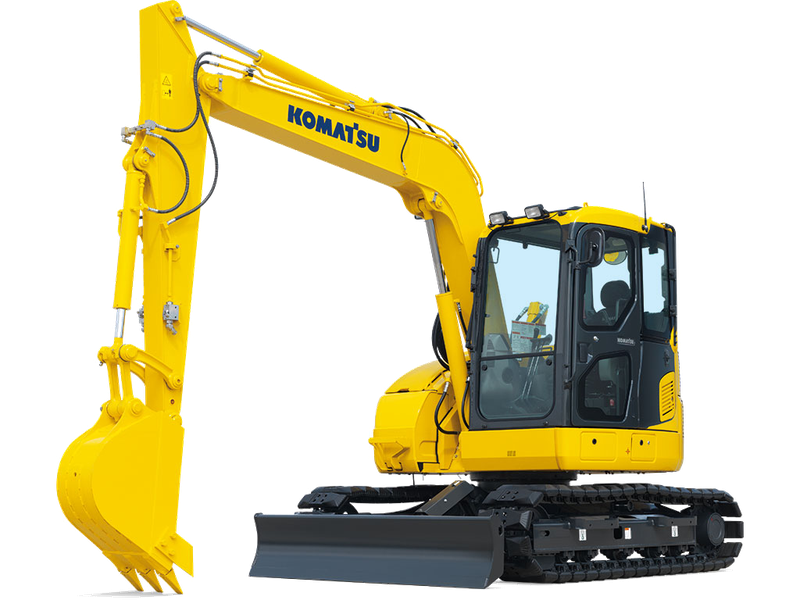shovel: (57, 5, 751, 600)
